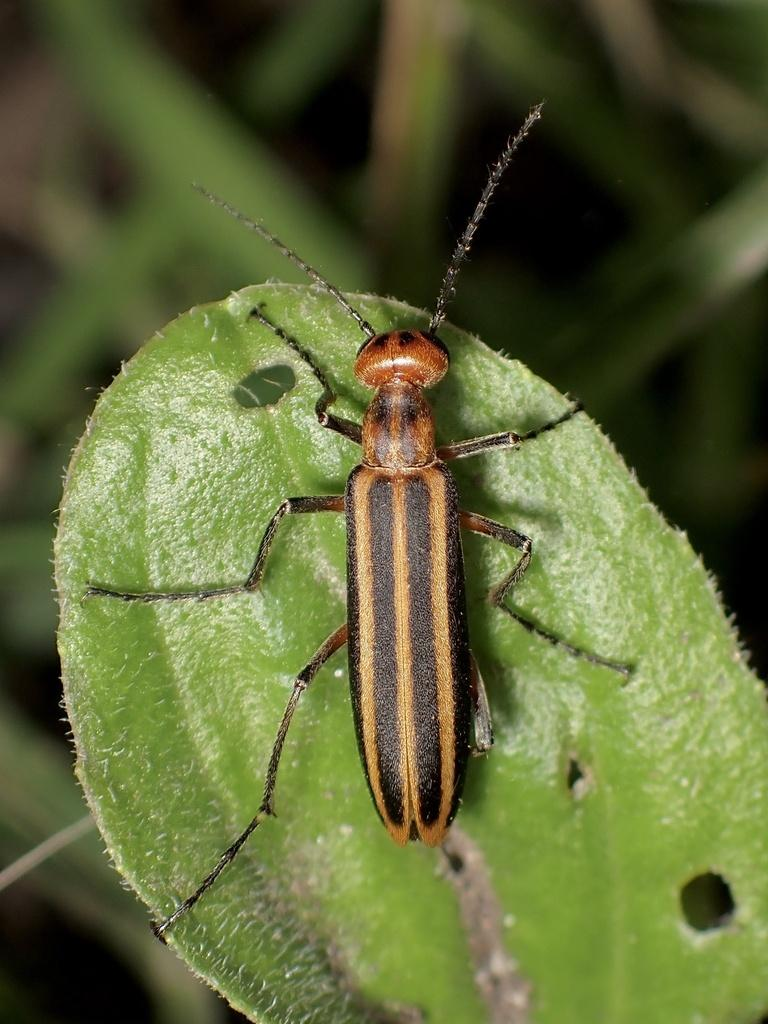blister_beetle: (43, 64, 768, 952)
